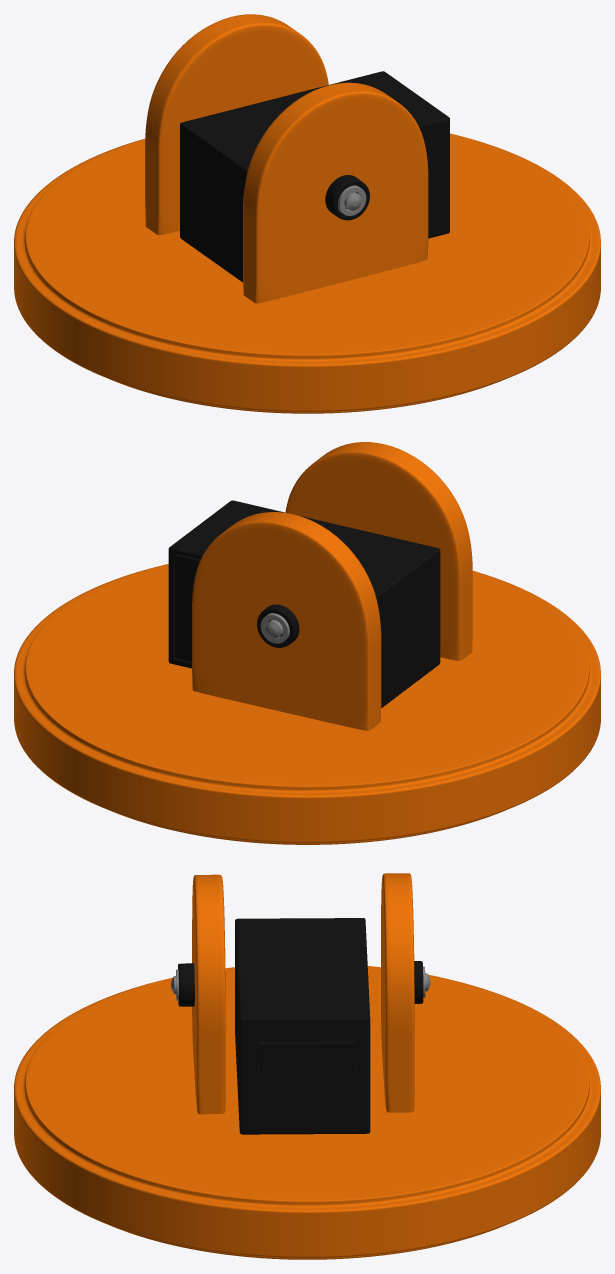
Rendered from zone0.FBX.
The picture shows the model from 3 angles, top to bottom: view 1: azimuth 30°, elevation 25°; view 2: azimuth 150°, elevation 25°; view 3: azimuth 270°, elevation 25°; orthographic projection.
Parts seen in each view (by area): view 1: yellow, rubber, metal; view 2: yellow, rubber, metal; view 3: yellow, rubber.
Part boxes in pixels (x1,y1,x2,y2): yellow: (14,14,600,413); rubber: (180,71,449,282); metal: (338,185,366,215); yellow: (14,442,600,844); rubber: (168,500,440,708); metal: (260,613,289,643); yellow: (14,873,600,1259); rubber: (178,918,423,1134).
Size of the model in its own units: 22.28 by 10.98 by 22.28.
